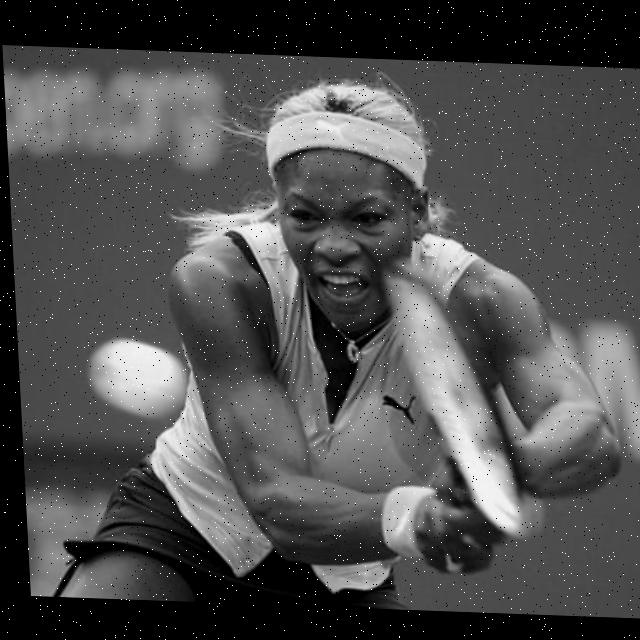face: (251, 78, 449, 336)
